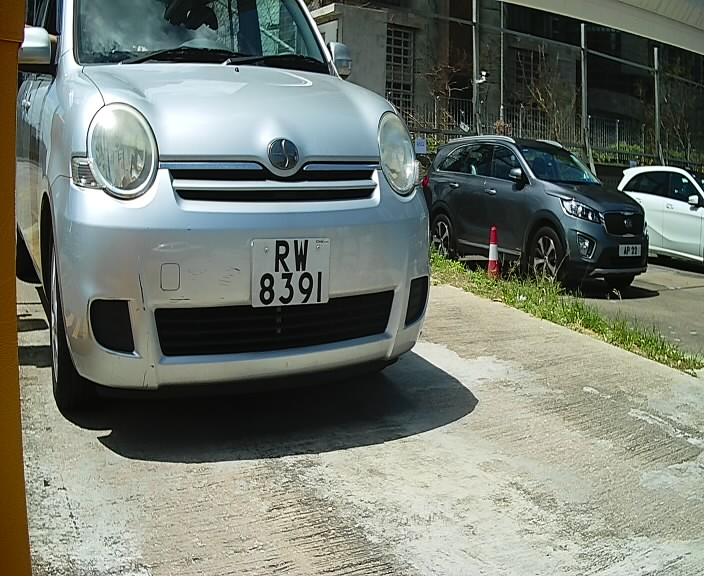Car: (17, 2, 442, 440)
License Plate: (240, 228, 336, 325)
